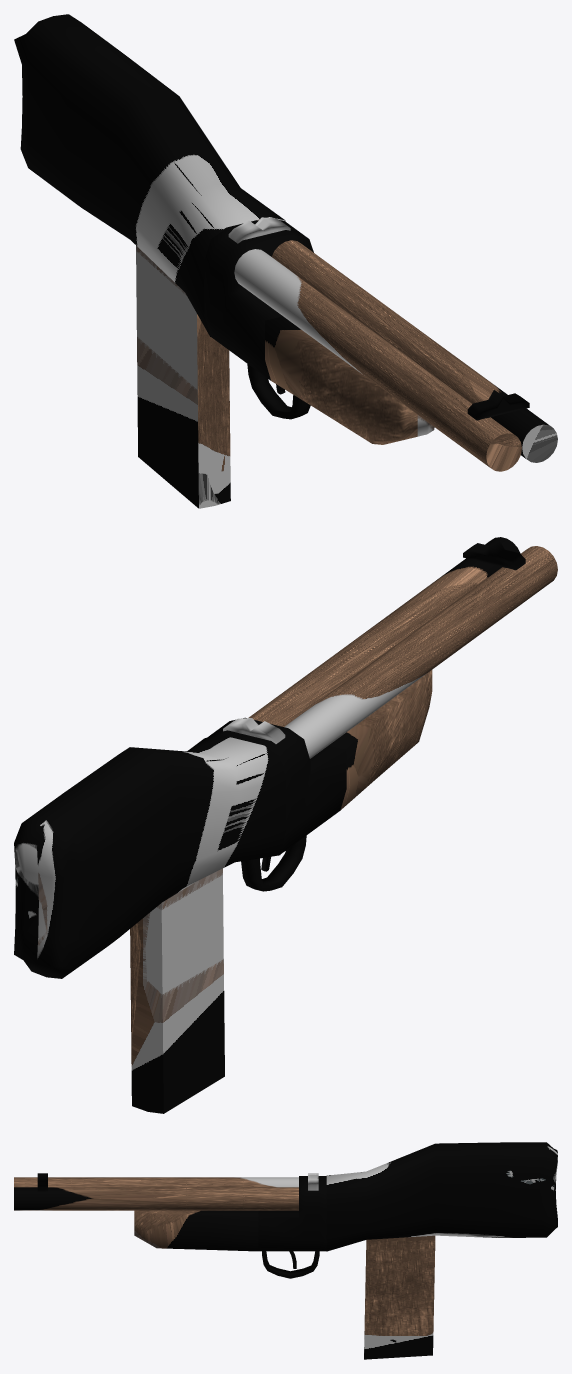
The picture shows the model from 3 angles, top to bottom: view 1: azimuth 30°, elevation 25°; view 2: azimuth 150°, elevation 25°; view 3: azimuth 270°, elevation 25°; orthographic projection. The views are drawn at different scales.
Parts seen in each view (by area): view 1: Cube; view 2: Cube; view 3: Cube.
Boxes of the visible parts, x1,y1,x2,y2 form: Cube: (14, 14, 557, 508); Cube: (14, 537, 557, 1113); Cube: (14, 1142, 557, 1359).
Size of the model in its own units: 4.87 by 19.9 by 46.69.
Materials: 1 (1 with a texture image).
